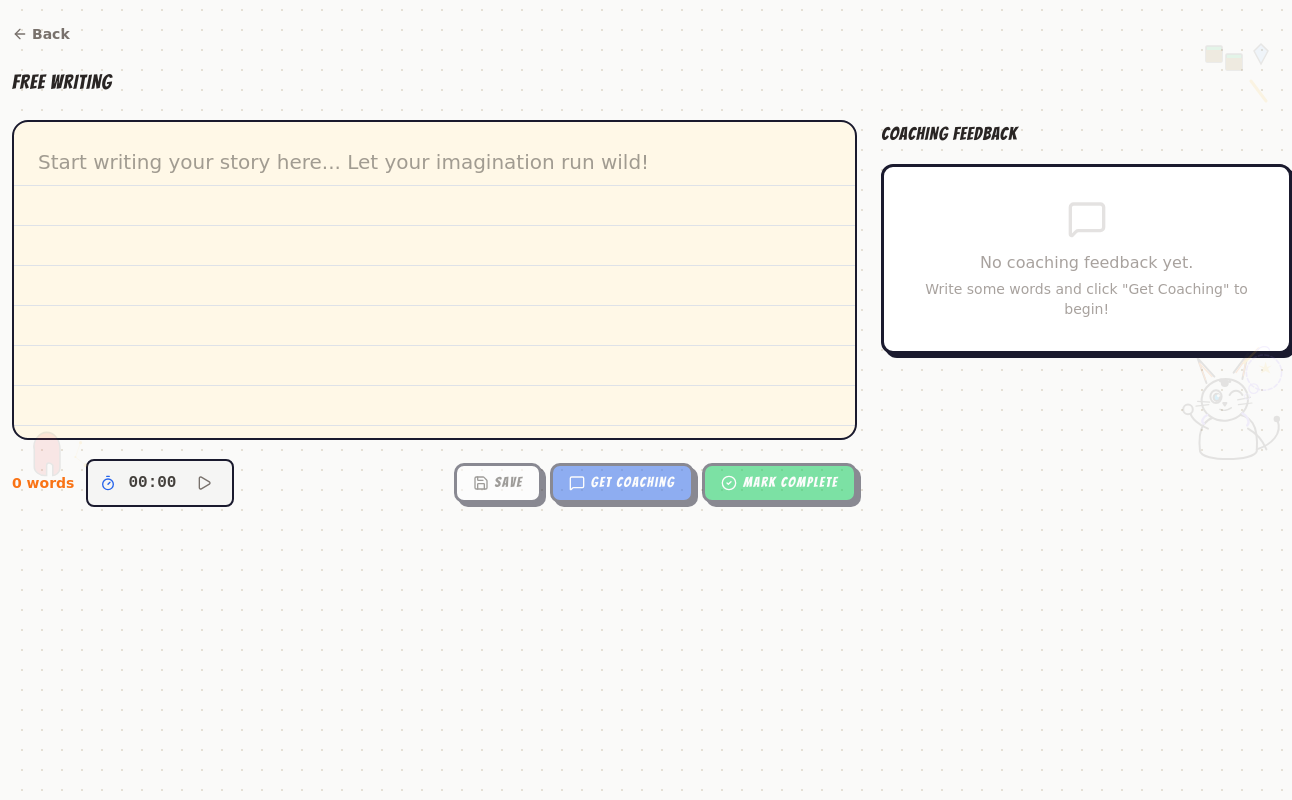
Test: WritingDesk › shows word count that updates as user types
The image size is (1292, 800).
Type "Hello world today" into the text box named "Writing area". click: (435, 280)
box: x1=12 y1=120 x2=857 y2=440
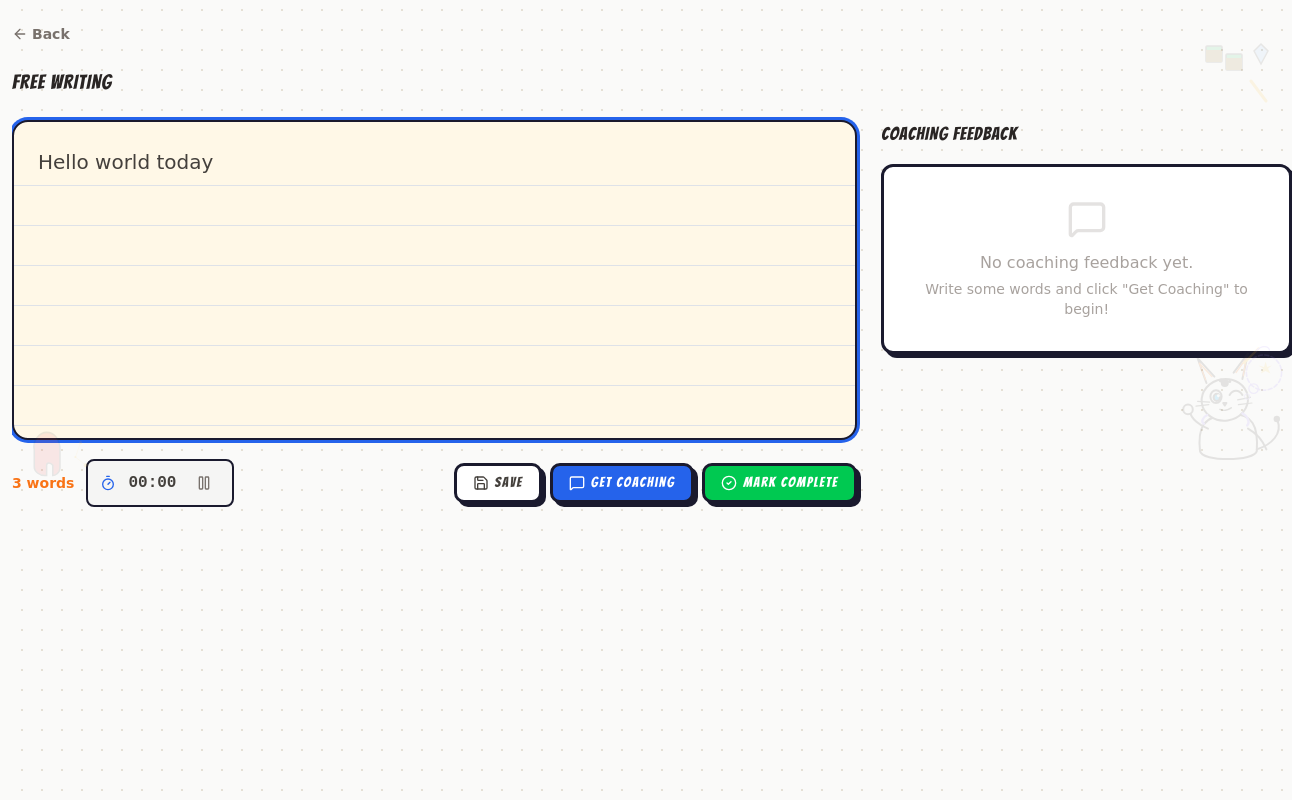
Now the text "3 words" is shown, box x1=12 y1=473 x2=74 y2=493
